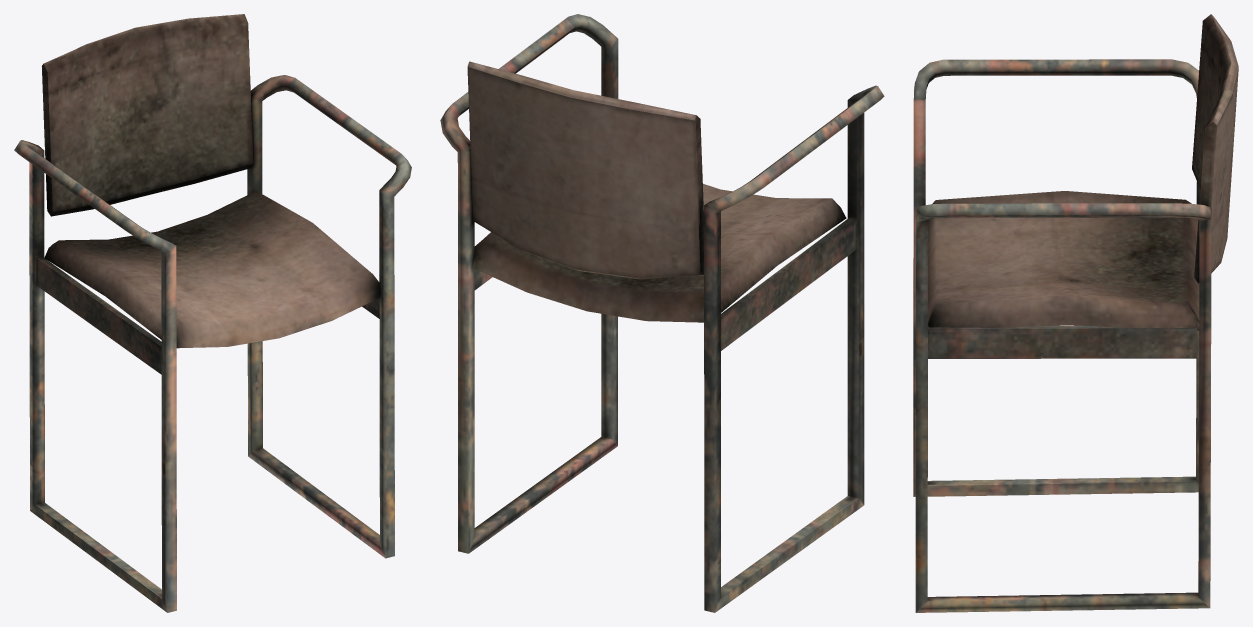
File: MetalChair.FBX
3 renders of one model, left to right at view 1: azimuth 30°, elevation 25°; view 2: azimuth 150°, elevation 25°; view 3: azimuth 270°, elevation 25°, orthographic. The views are drawn at different scales.
Parts seen in each view (by area): view 1: MetalChair; view 2: MetalChair; view 3: MetalChair.
Part boxes in pixels (<box>): MetalChair: <box>14,14,411,612</box>; MetalChair: <box>440,14,884,612</box>; MetalChair: <box>913,14,1238,612</box>.
Size of the model in its own units: 80.47 by 122 by 73.29.
